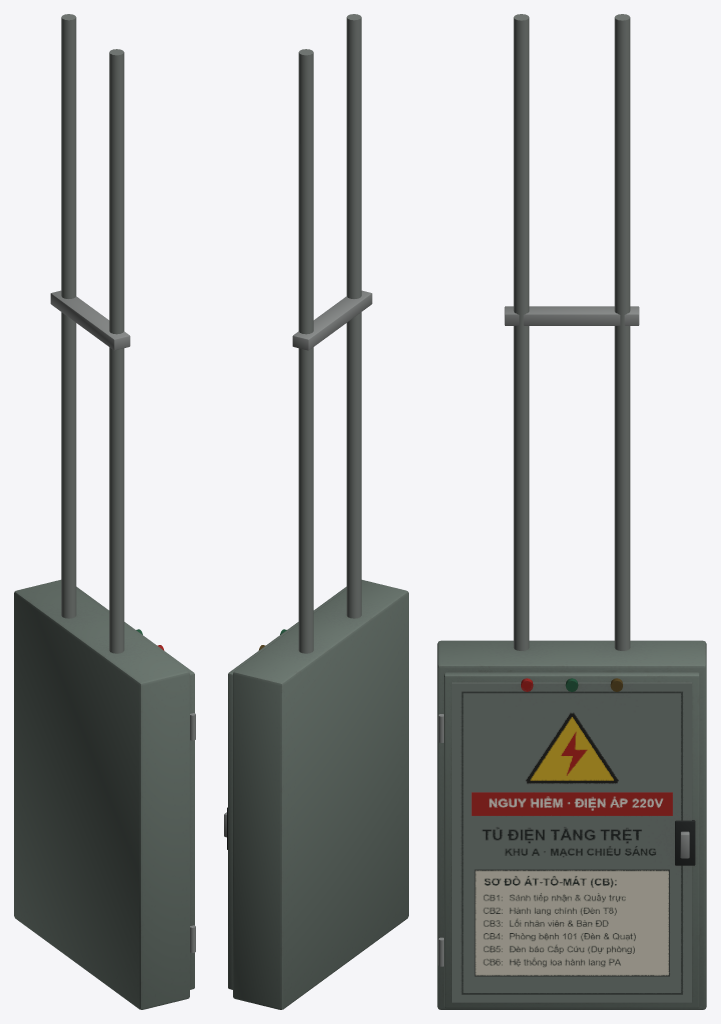
The model's file is CTCC_HALL_BreakerPanel.fbx.
3 renders of one model, left to right at view 1: azimuth 30°, elevation 25°; view 2: azimuth 150°, elevation 25°; view 3: azimuth 270°, elevation 25°, orthographic. The views are drawn at different scales.
Visible parts, largest first — view 1: CTCC_HALL_BreakerPanel; view 2: CTCC_HALL_BreakerPanel; view 3: CTCC_HALL_BreakerPanel.
Part boxes in pixels (bbox=[...]): CTCC_HALL_BreakerPanel: bbox=[14, 14, 195, 1009]; CTCC_HALL_BreakerPanel: bbox=[224, 14, 408, 1009]; CTCC_HALL_BreakerPanel: bbox=[437, 14, 706, 1009].
Bounding box in the file's own units: 0.145 × 1.92 × 0.48.
